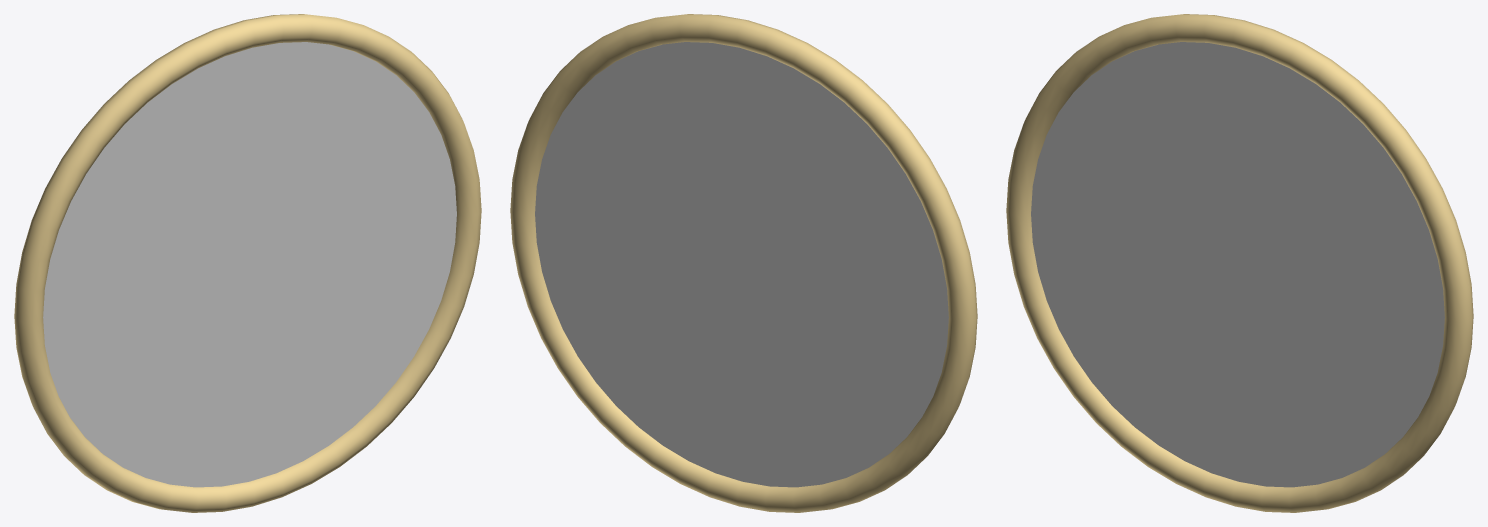
The model's file is mirror_round.glb.
3 renders of one model, left to right at view 1: azimuth 30°, elevation 25°; view 2: azimuth 150°, elevation 25°; view 3: azimuth 330°, elevation 25°, orthographic.
Parts seen in each view (by area): view 1: glass, frame; view 2: glass, frame; view 3: glass, frame.
Part boxes in pixels (x1,y1,x2,y2): glass: [43, 42, 456, 487]; frame: [14, 14, 481, 512]; glass: [535, 42, 948, 487]; frame: [510, 14, 977, 512]; glass: [1031, 42, 1444, 487]; frame: [1006, 14, 1473, 512].
Size of the model in its own units: 0.74 by 0.74 by 0.038.
